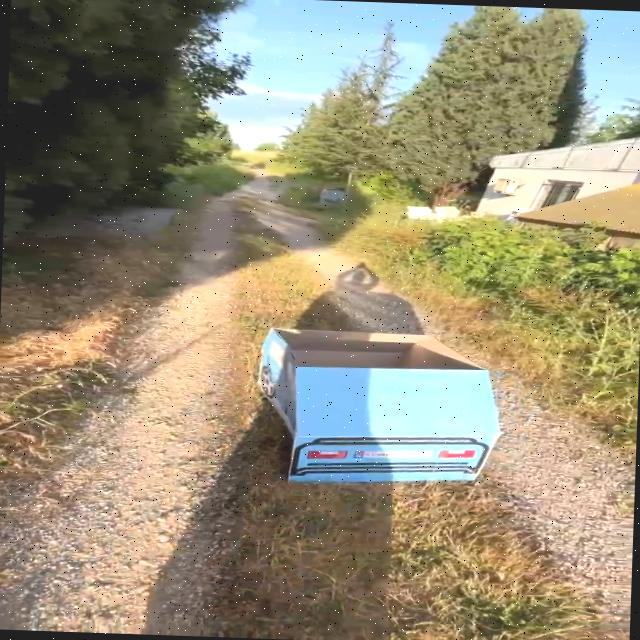blue_car: (190, 299, 555, 510)
